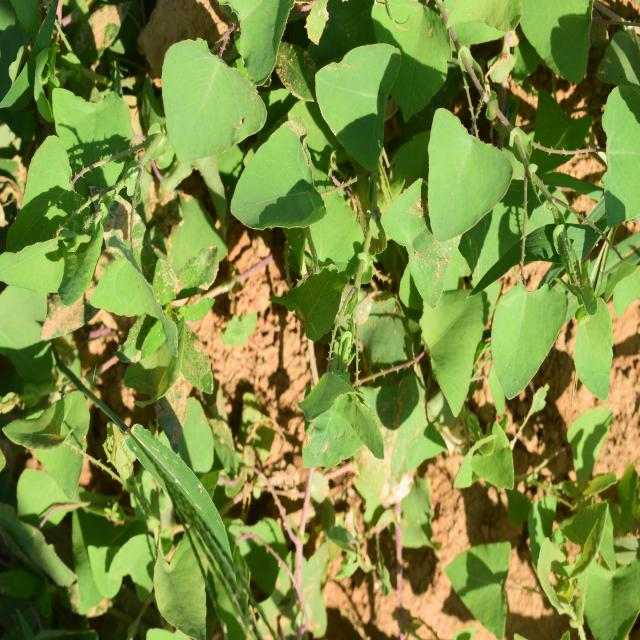Asiatic_Smartweed: (303, 283, 514, 500), (310, 34, 519, 246), (152, 22, 328, 254), (0, 87, 128, 360), (490, 243, 630, 409)
